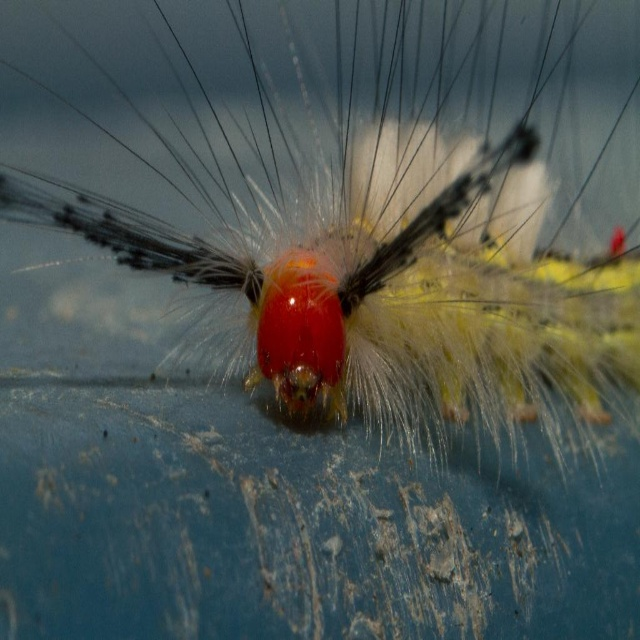Caterpillar: (0, 0, 640, 491)
